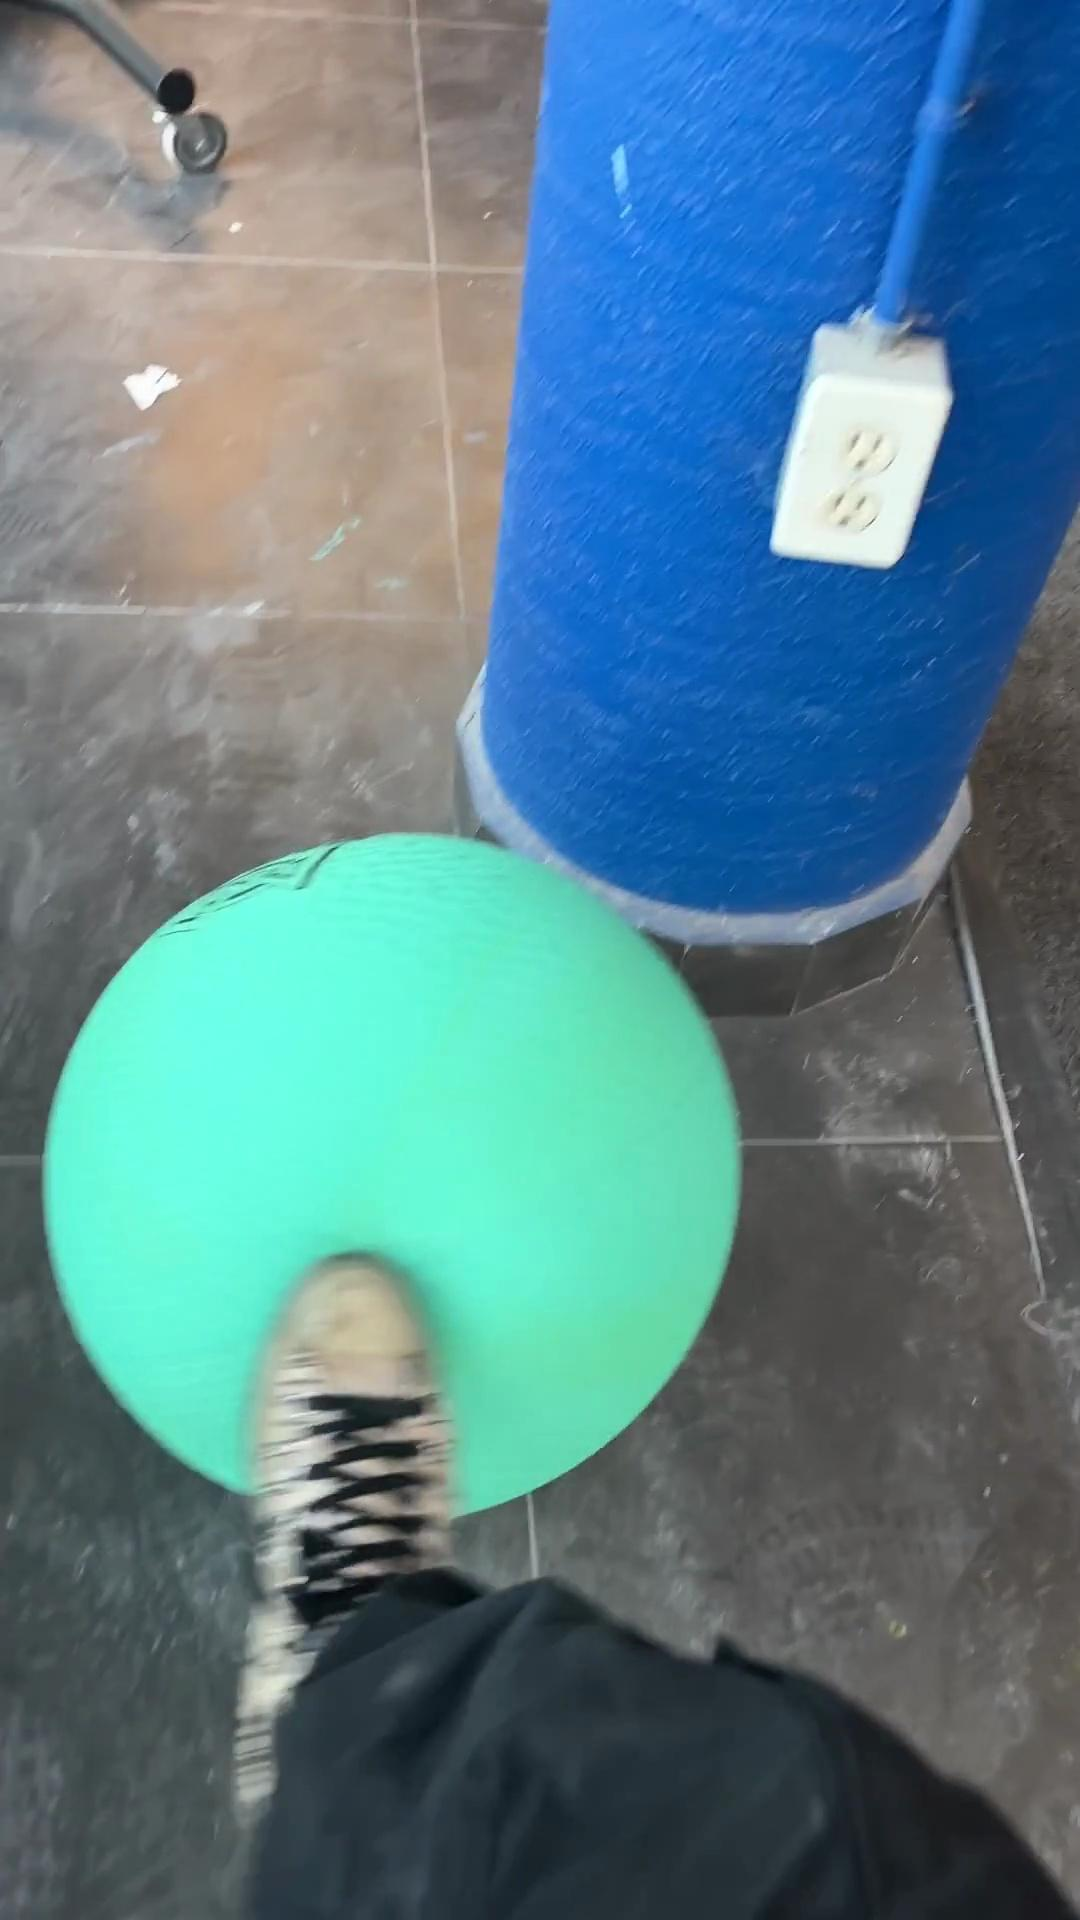ALGAE: (40, 828, 744, 1520)
